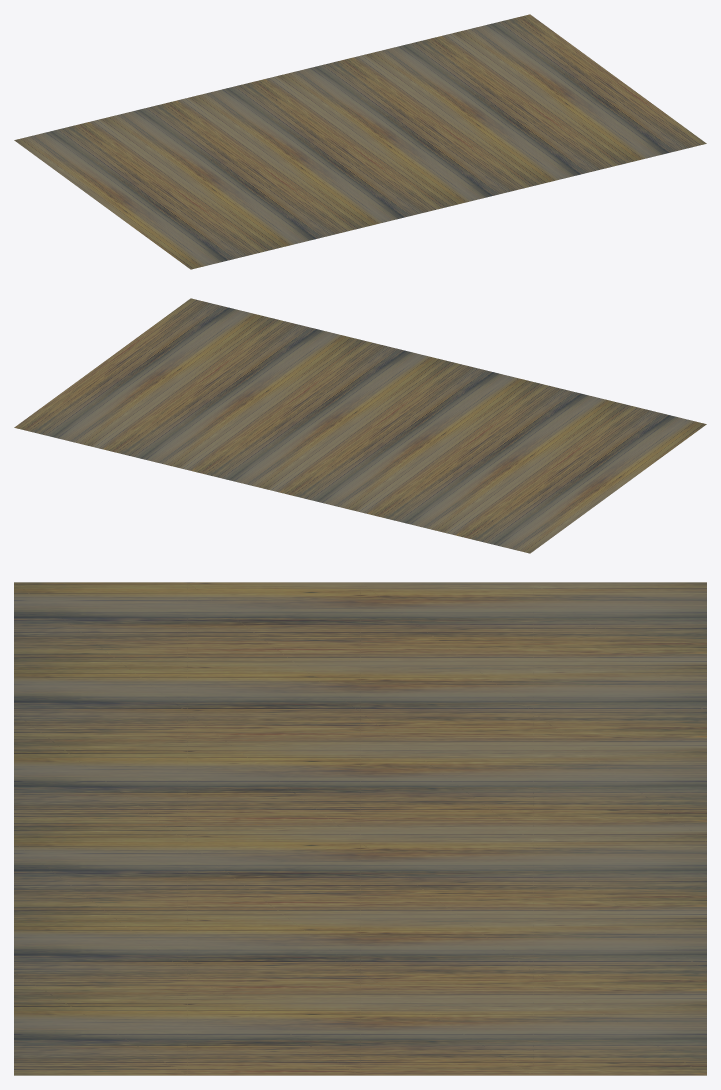
The model's file is floor.FBX.
3 renders of one model, top to bottom at view 1: azimuth 30°, elevation 25°; view 2: azimuth 150°, elevation 25°; view 3: azimuth 270°, elevation 25°, orthographic. The views are drawn at different scales.
Visible parts, largest first — view 1: Plane001; view 2: Plane001; view 3: Plane001.
Part boxes in pixels (x1,y1,x2,y2): Plane001: (14,14,706,269); Plane001: (14,298,706,553); Plane001: (14,582,706,1075).
Bounding box in the file's own units: 15893 × 5.68e-13 × 9429.
